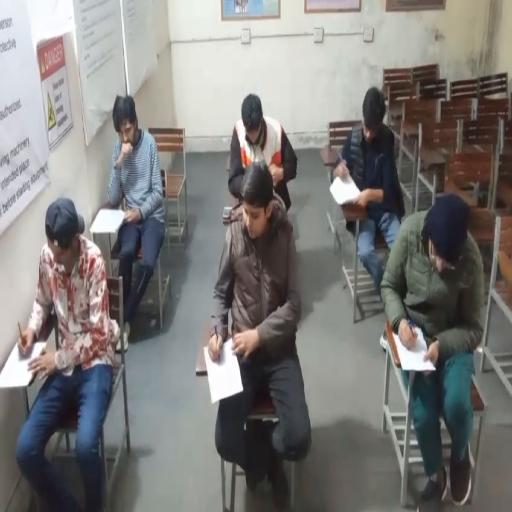paper: (204, 338, 244, 404), (0, 339, 46, 387), (394, 328, 436, 372), (328, 173, 362, 205), (90, 208, 128, 234)
